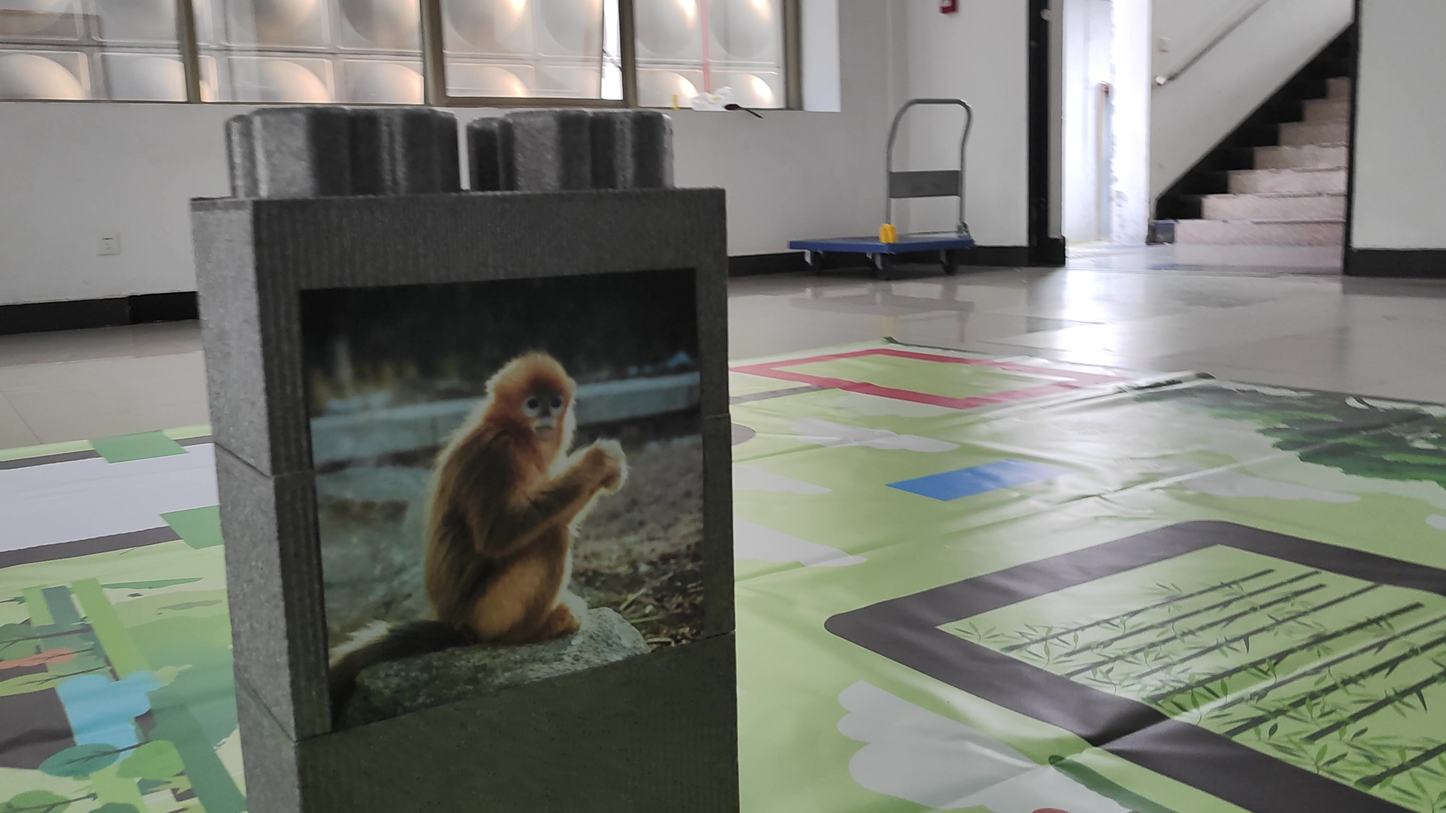monkey: (316, 340, 628, 689)
